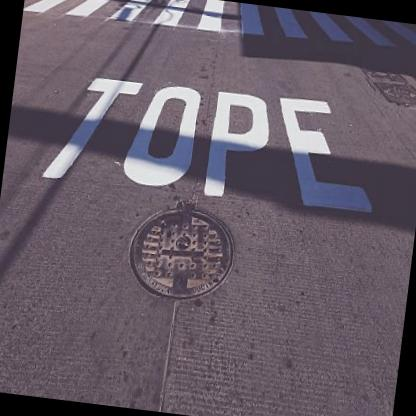manholes: (110, 166, 252, 320)
